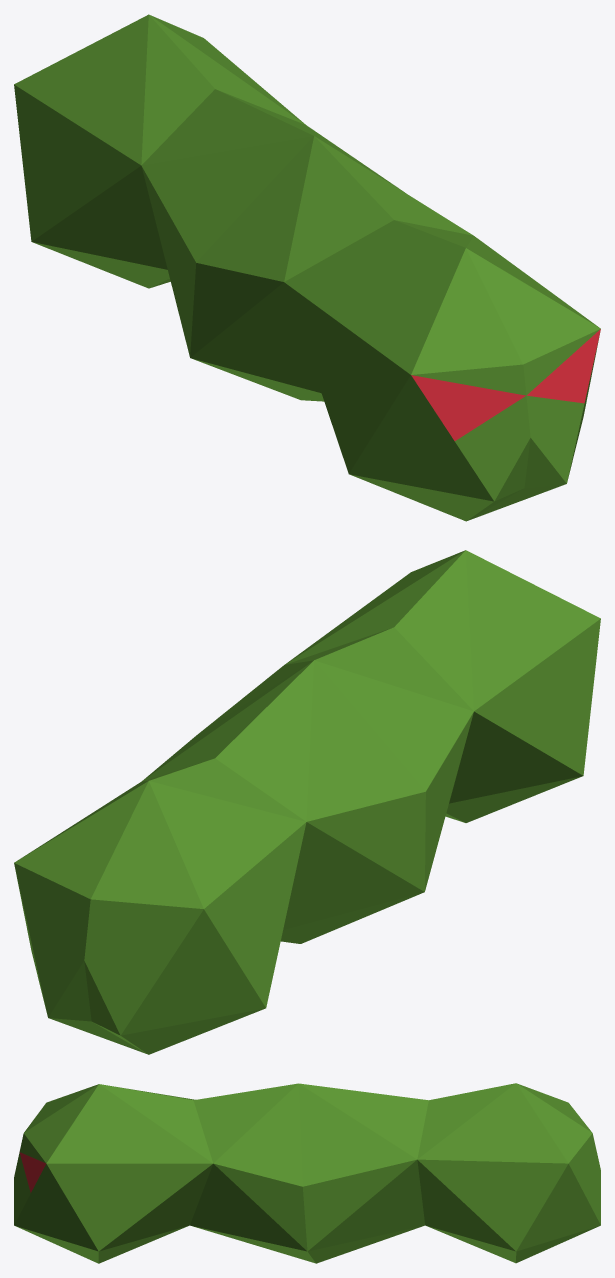
The model's file is Worm.fbx.
3 renders of one model, top to bottom at view 1: azimuth 30°, elevation 25°; view 2: azimuth 150°, elevation 25°; view 3: azimuth 270°, elevation 25°, orthographic. The views are drawn at different scales.
Visible parts, largest first — view 1: Worm; view 2: Worm; view 3: Worm.
Part boxes in pixels (x1=…): Worm: x1=14, y1=14, x2=600, y2=521; Worm: x1=14, y1=550, x2=600, y2=1054; Worm: x1=14, y1=1083, x2=600, y2=1263.
Size of the model in its own units: 179 by 200 by 589.
